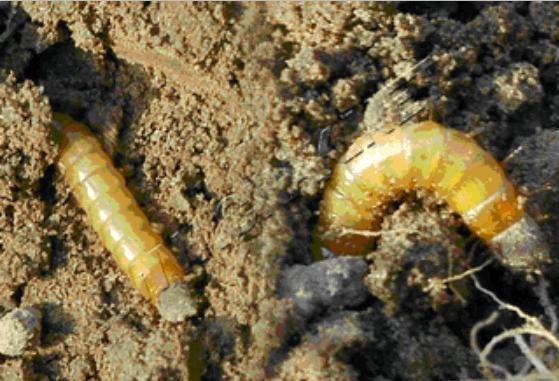grub: (310, 117, 554, 277)
